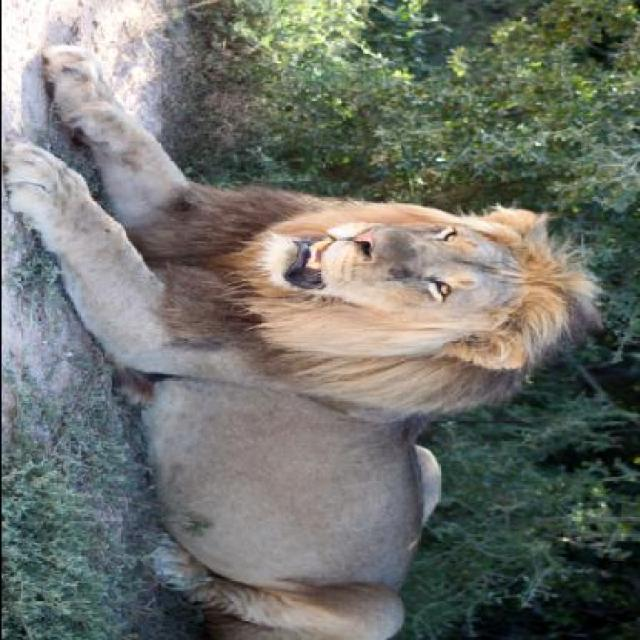Lion: (0, 33, 598, 638)
